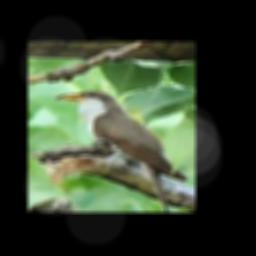Cuckoo: (54, 90, 187, 211)
